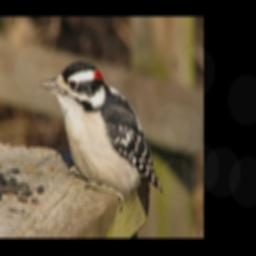Woodpecker: (37, 62, 165, 213)
